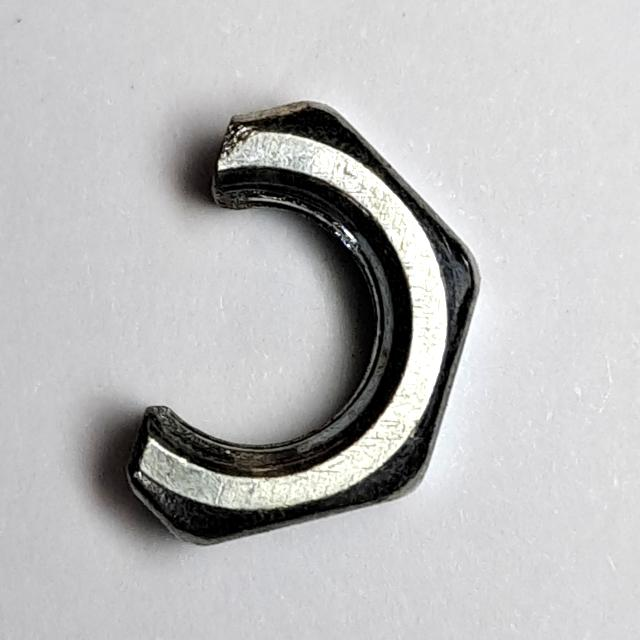Fracture: (111, 87, 496, 561)
